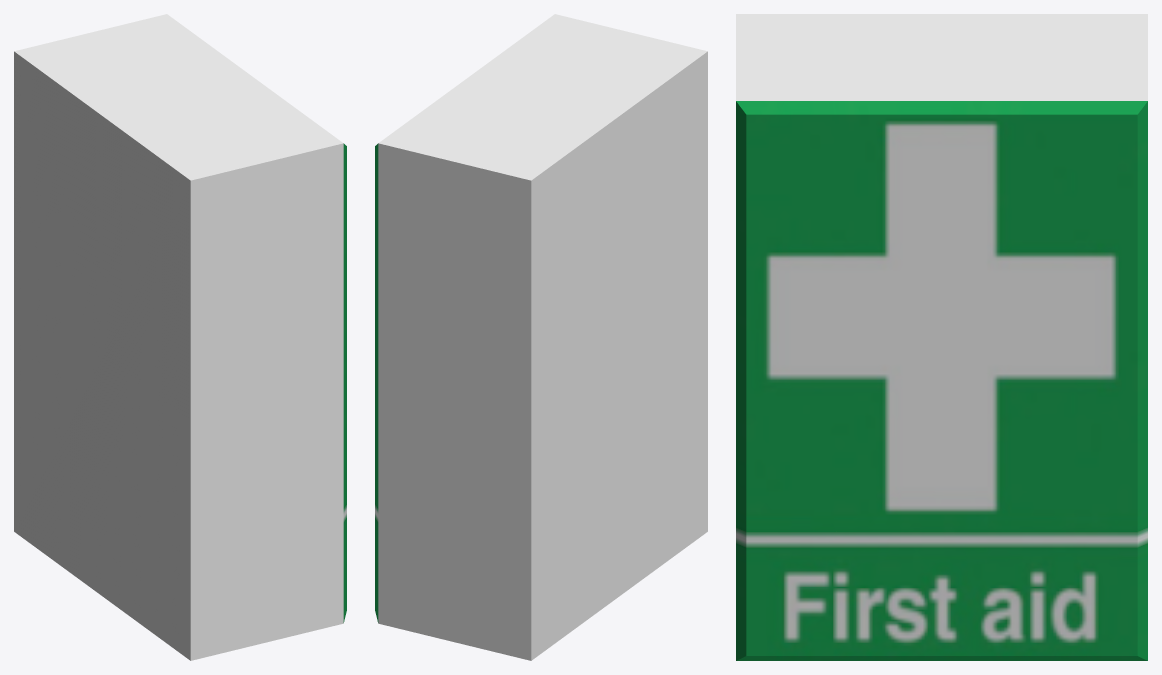
File: FirstAidBox.fbx
The picture shows the model from 3 angles, left to right: view 1: azimuth 30°, elevation 25°; view 2: azimuth 150°, elevation 25°; view 3: azimuth 270°, elevation 25°; orthographic projection. The views are drawn at different scales.
Visible parts, largest first — view 1: FirstAidBox, Door; view 2: FirstAidBox, Door; view 3: Door, FirstAidBox.
Boxes of the visible parts, box(x1,y1,x2,y2) form: FirstAidBox: box(14, 14, 343, 660); Door: box(343, 143, 346, 622); FirstAidBox: box(378, 14, 707, 660); Door: box(375, 143, 378, 622); Door: box(736, 101, 1147, 660); FirstAidBox: box(736, 14, 1147, 100).
Size of the model in its own units: 0.00197 by 0.00562 by 0.00375.
